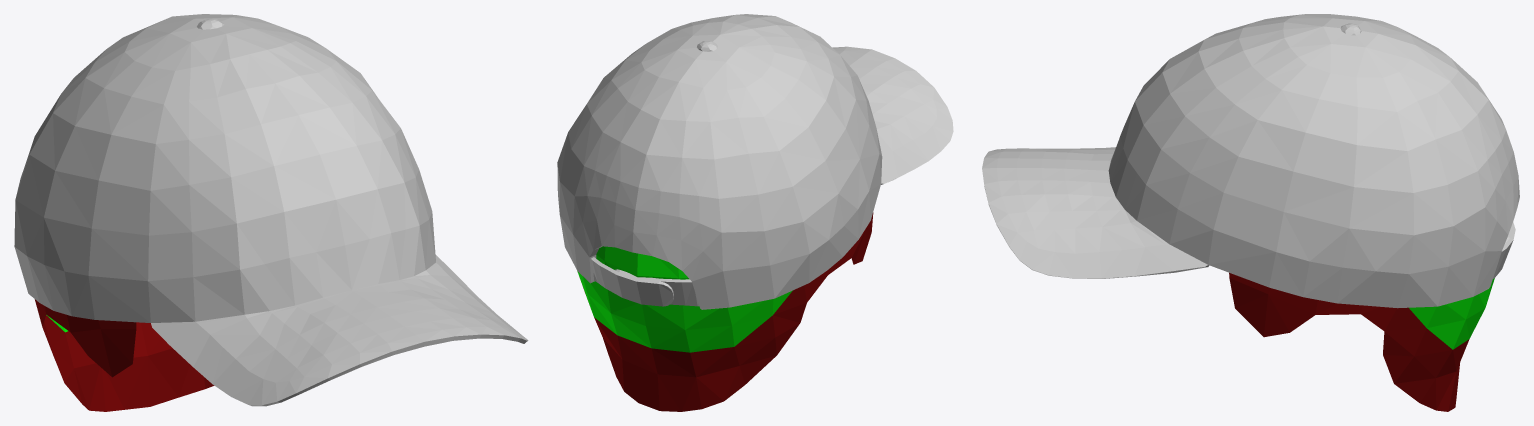
File: BaseballHat_Hair_03.obj
3 renders of one model, left to right at view 1: azimuth 30°, elevation 25°; view 2: azimuth 150°, elevation 25°; view 3: azimuth 270°, elevation 25°, orthographic. The views are drawn at different scales.
Bounding box in the file's own units: 16.56 × 20.08 × 26.26.
